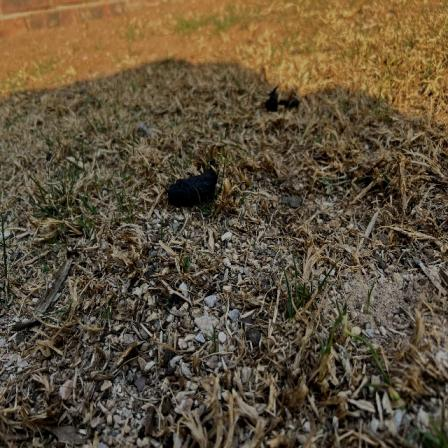dog-poop: (158, 160, 232, 212), (263, 86, 308, 114)
